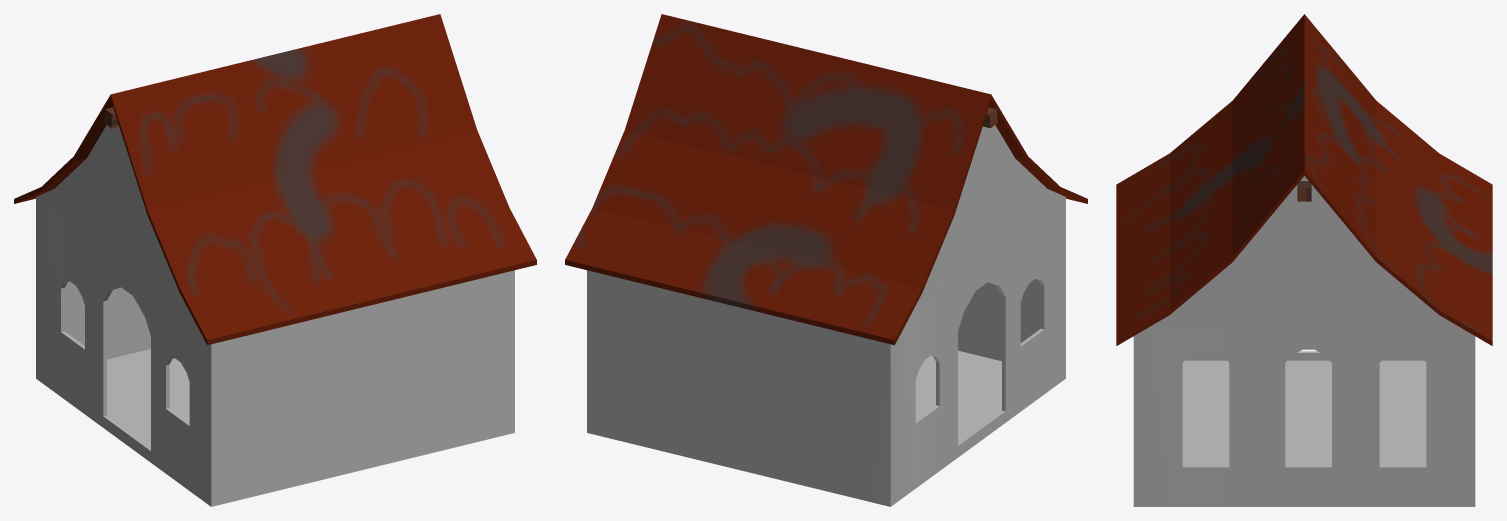
The model's file is house1.1.obj.
3 renders of one model, left to right at view 1: azimuth 30°, elevation 25°; view 2: azimuth 150°, elevation 25°; view 3: azimuth 270°, elevation 25°, orthographic. The views are drawn at different scales.
Parts seen in each view (by area): view 1: roof_Cube.002, walls_Cube; view 2: roof_Cube.002, walls_Cube; view 3: walls_Cube, roof_Cube.002.
Part boxes in pixels (<box>): roof_Cube.002: <box>14,14,536,345</box>; walls_Cube: <box>36,125,514,506</box>; roof_Cube.002: <box>565,14,1087,345</box>; walls_Cube: <box>587,125,1065,506</box>; walls_Cube: <box>1133,176,1475,506</box>; roof_Cube.002: <box>1116,14,1492,345</box>.
Size of the model in its own units: 26.85 by 26.92 by 26.79.
3 materials, 3 textured.
